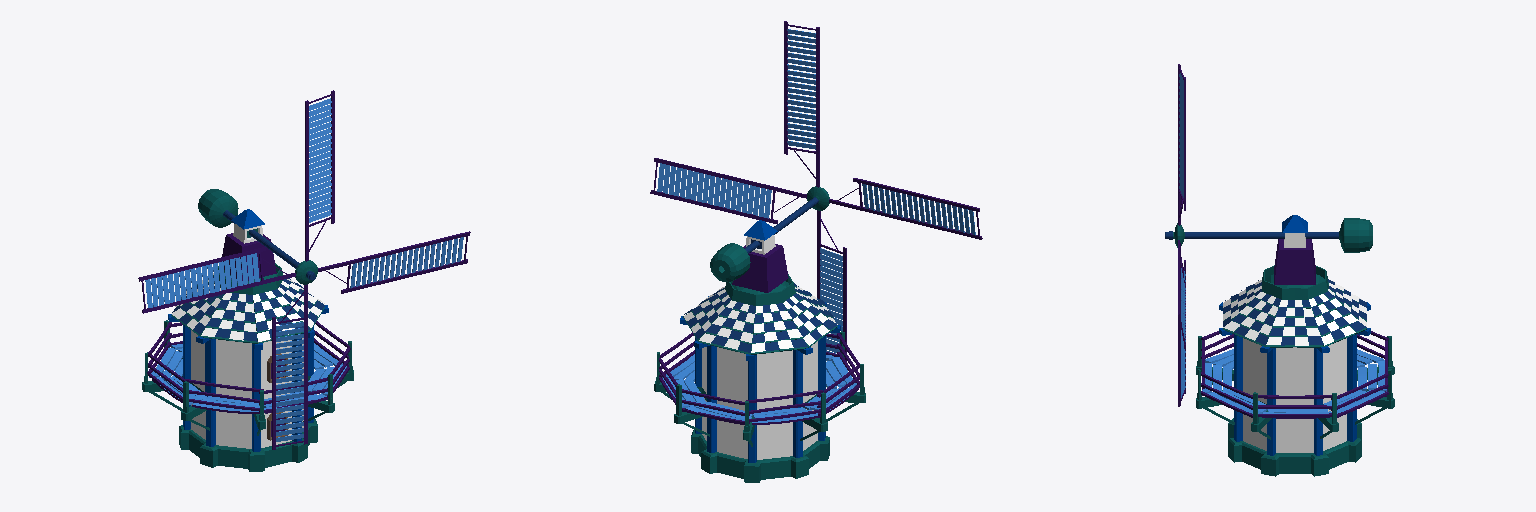
File: wind_old_windmill.obj
3 views of the same model, side by side, from view 1: azimuth 30°, elevation 25°; view 2: azimuth 150°, elevation 25°; view 3: azimuth 270°, elevation 25° (orthographic).
Parts seen in each view (by area): view 1: blades, building, rails, building_bottom_trim, building_struts, roof_color_1, roof_color_2, planks, support_beams, spindle_cores, roof_base, top (+1 smaller); view 2: blades, building, building_struts, rails, roof_color_2, building_bottom_trim, roof_color_1, planks, roof_base, support_beams, top, spindle_cores; view 3: building, building_struts, roof_color_2, building_bottom_trim, roof_color_1, rails, planks, blades, roof_base, support_beams, top, spindle_cores (+1 smaller).
Boxes of the visible parts, x1=… form: blades: x1=138, y1=90, x2=470, y2=449; building: x1=191, y1=330, x2=303, y2=448; rails: x1=147, y1=321, x2=350, y2=413; building_bottom_trim: x1=179, y1=419, x2=317, y2=471; building_struts: x1=168, y1=285, x2=328, y2=451; roof_color_1: x1=172, y1=273, x2=324, y2=341; roof_color_2: x1=172, y1=276, x2=324, y2=341; planks: x1=149, y1=343, x2=346, y2=413; support_beams: x1=142, y1=320, x2=353, y2=435; spindle_cores: x1=198, y1=189, x2=317, y2=284; roof_base: x1=171, y1=263, x2=324, y2=343; top: x1=222, y1=233, x2=276, y2=280; blades: x1=650, y1=21, x2=982, y2=362; building: x1=702, y1=341, x2=817, y2=459; building_struts: x1=680, y1=296, x2=840, y2=462; rails: x1=659, y1=332, x2=859, y2=424; roof_color_2: x1=684, y1=283, x2=836, y2=352; building_bottom_trim: x1=691, y1=430, x2=829, y2=482; roof_color_1: x1=684, y1=286, x2=835, y2=352; planks: x1=662, y1=354, x2=856, y2=422; roof_base: x1=683, y1=274, x2=837, y2=354; support_beams: x1=654, y1=331, x2=865, y2=446; top: x1=732, y1=244, x2=788, y2=292; spindle_cores: x1=710, y1=186, x2=829, y2=281; building: x1=1243, y1=338, x2=1346, y2=452; building_struts: x1=1219, y1=302, x2=1370, y2=455; roof_color_2: x1=1223, y1=279, x2=1366, y2=345; building_bottom_trim: x1=1228, y1=418, x2=1361, y2=476; roof_color_1: x1=1223, y1=280, x2=1366, y2=345; rails: x1=1201, y1=331, x2=1388, y2=418; planks: x1=1202, y1=349, x2=1386, y2=413; blades: x1=1178, y1=64, x2=1185, y2=406; roof_base: x1=1223, y1=265, x2=1366, y2=347; support_beams: x1=1196, y1=336, x2=1394, y2=439; top: x1=1274, y1=239, x2=1315, y2=284; spindle_cores: x1=1173, y1=218, x2=1372, y2=252.
Size of the model in its own units: 82.54 by 92.29 by 49.81.